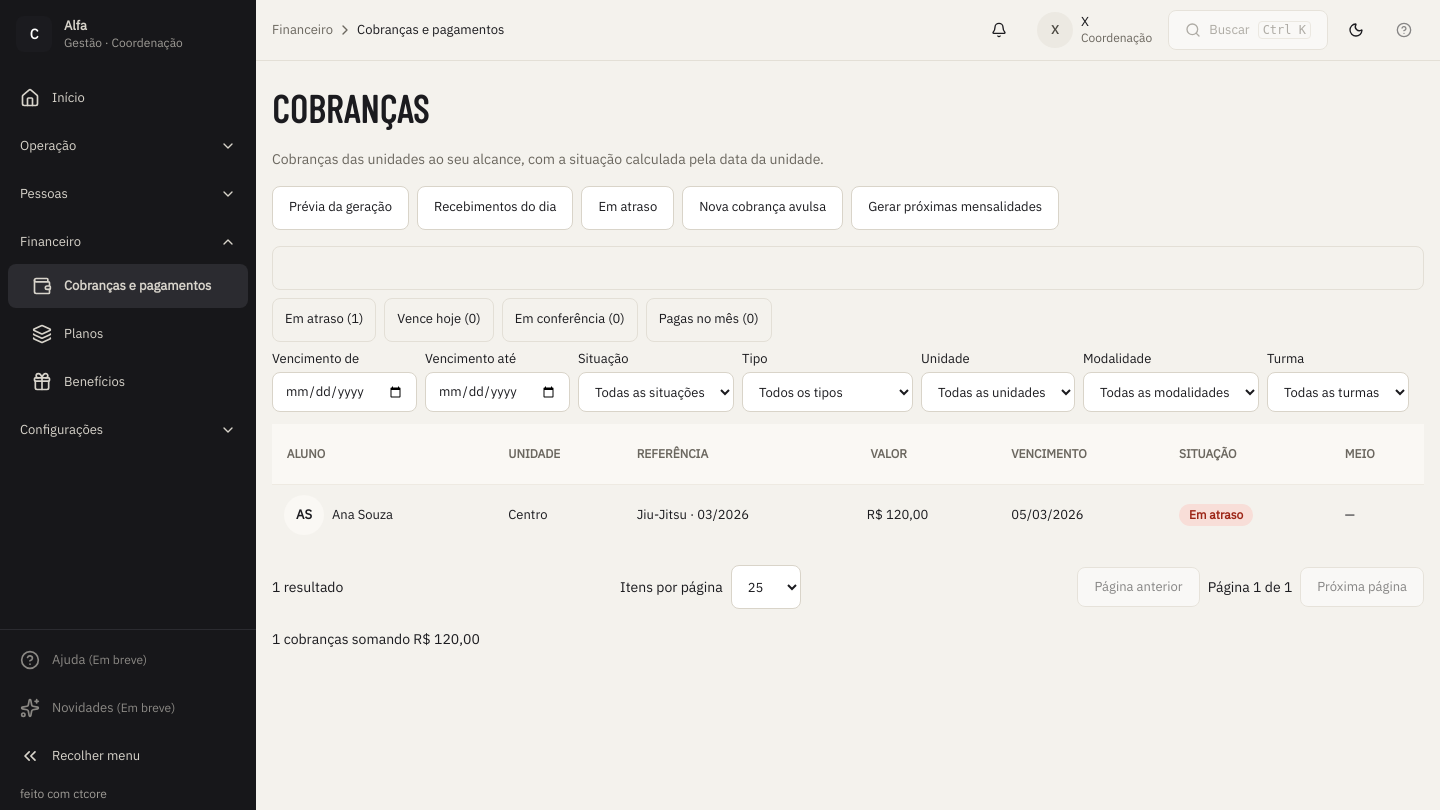
it: ChargePanel (RF-COB-02) › CA20: 404 mostra cobrança não encontrada
Step 1. Click the button with aria-label "Abrir cobrança de Ana Souza" → [693, 515], box [637,493,749,537]
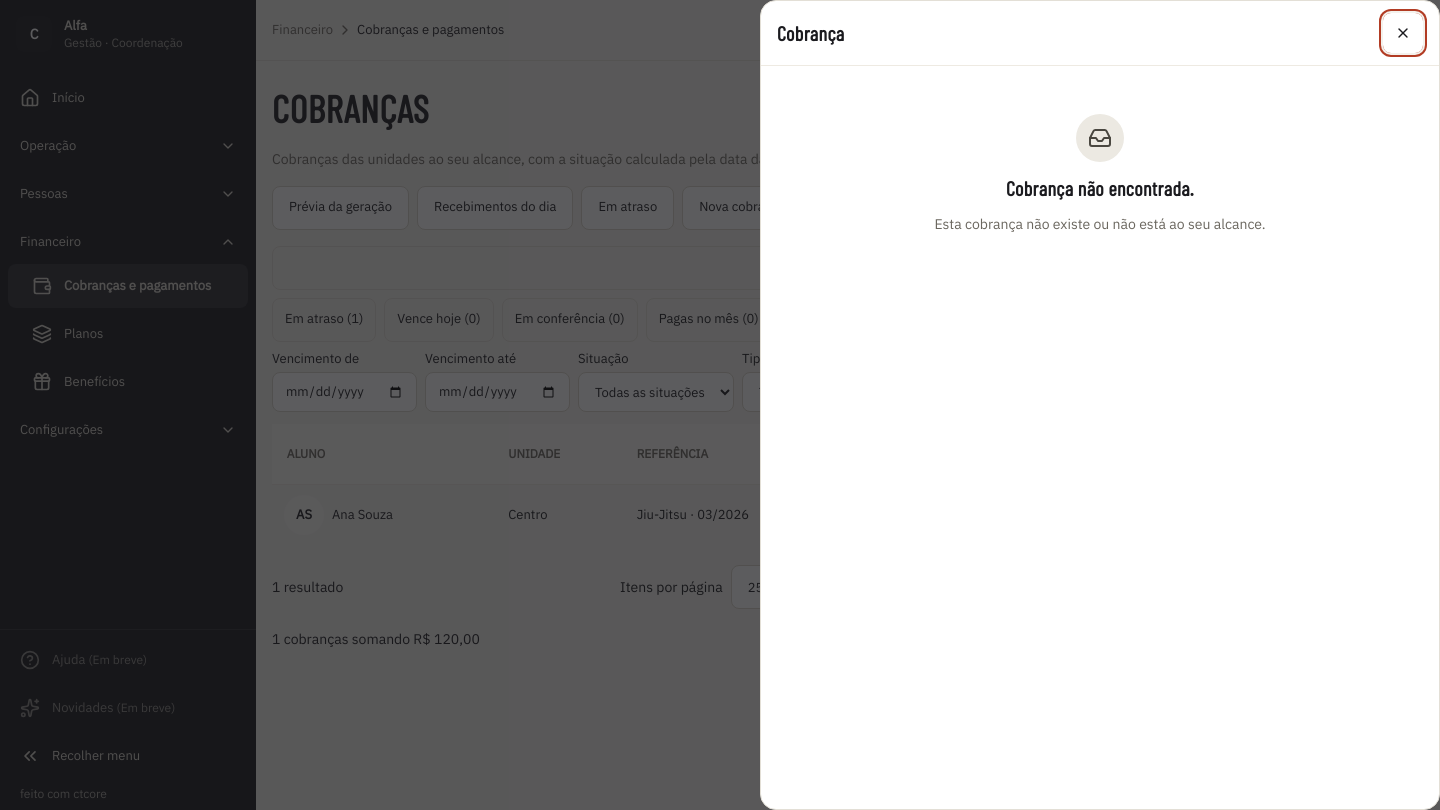
Result: the heading "Cobrança não encontrada." is shown at [1006,174,1194,202]
